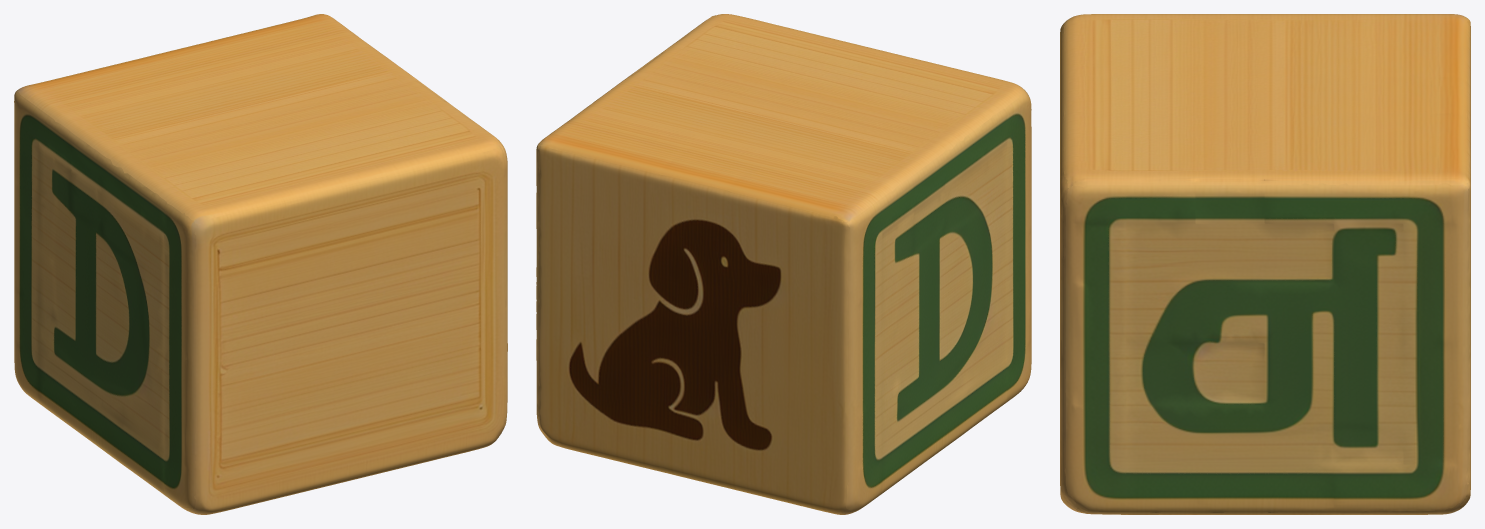
3 views of the same model, side by side, from view 1: azimuth 30°, elevation 25°; view 2: azimuth 150°, elevation 25°; view 3: azimuth 270°, elevation 25° (orthographic). The views are drawn at different scales.
Visible parts, largest first — view 1: tmph2ivlwu_.ply; view 2: tmph2ivlwu_.ply; view 3: tmph2ivlwu_.ply.
Boxes of the visible parts, x1,y1,x2,y2 form: tmph2ivlwu_.ply: (14, 14, 507, 514); tmph2ivlwu_.ply: (536, 14, 1031, 514); tmph2ivlwu_.ply: (1060, 14, 1470, 514).
Size of the model in its own units: 1.97 by 1.78 by 1.96.
1 material, 1 textured.
